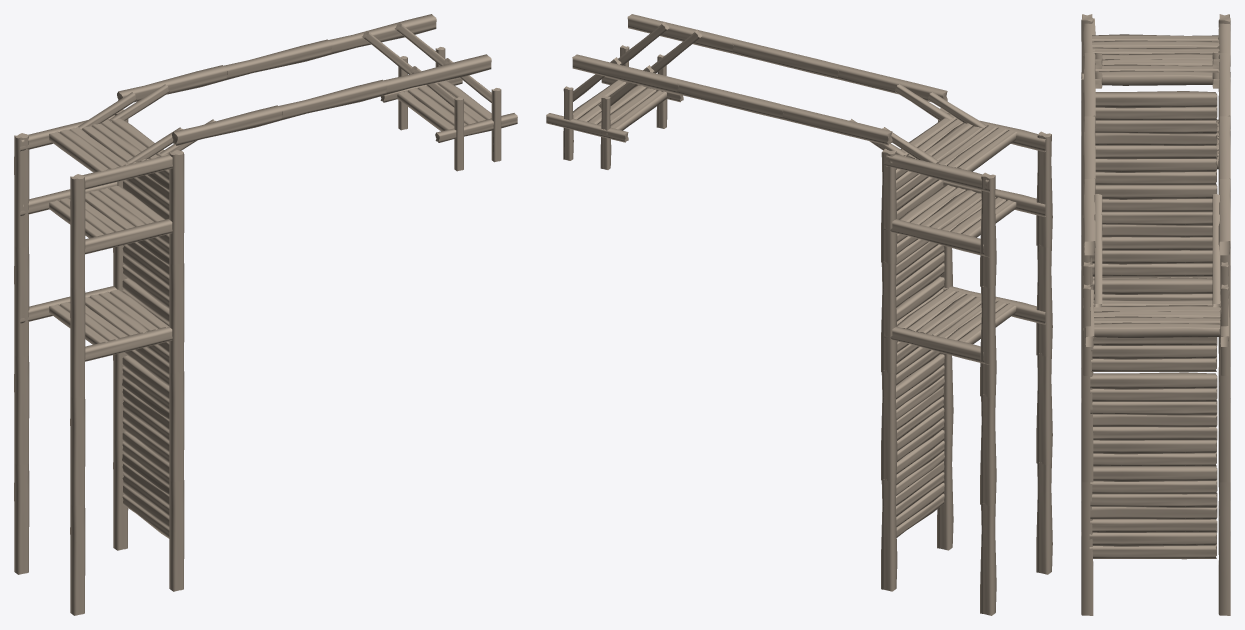
The model's file is EstructuraMadera.fbx.
3 renders of one model, left to right at view 1: azimuth 30°, elevation 25°; view 2: azimuth 150°, elevation 25°; view 3: azimuth 270°, elevation 25°, orthographic. The views are drawn at different scales.
Parts seen in each view (by area): view 1: Estructura_de_madera; view 2: Estructura_de_madera; view 3: Estructura_de_madera.
Boxes of the visible parts, x1,y1,x2,y2 form: Estructura_de_madera: (14,14,517,615); Estructura_de_madera: (546,14,1052,615); Estructura_de_madera: (1081,14,1230,615).
Bounding box in the file's own units: 108 × 107 × 25.66.
